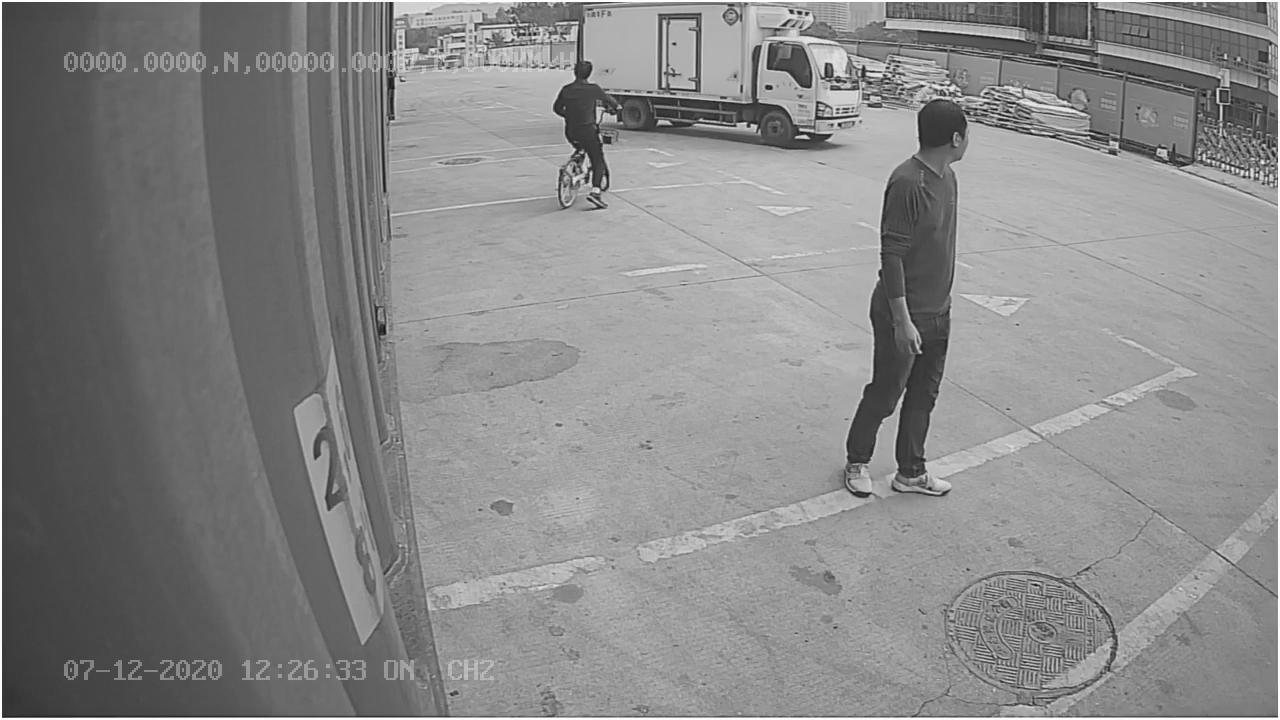person: (836, 93, 977, 499)
